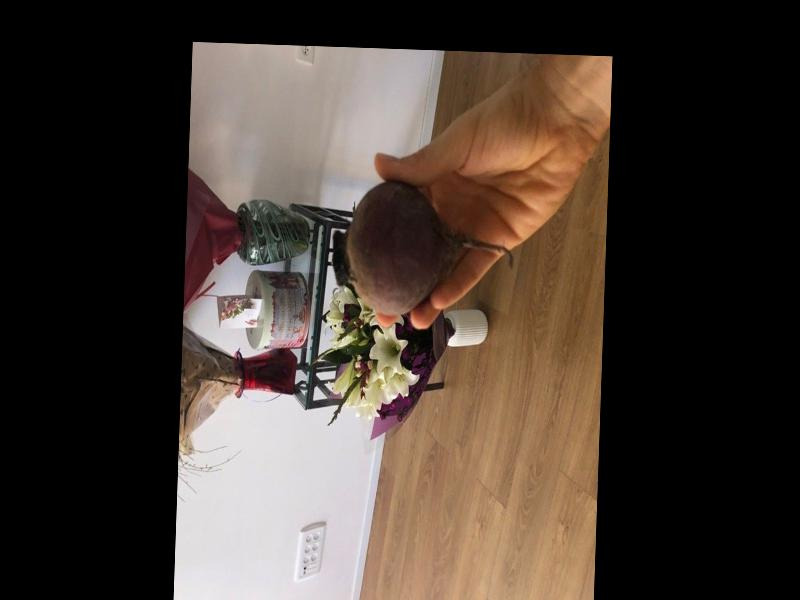Beet: (330, 179, 515, 320)
